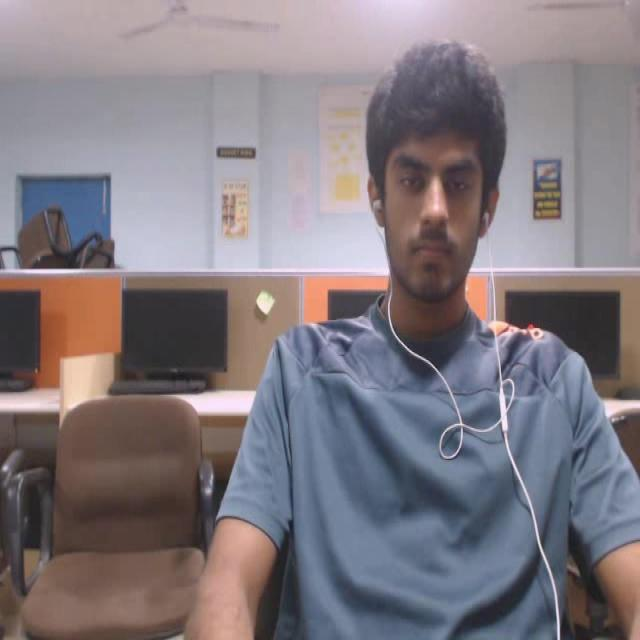Bored: (342, 37, 520, 320)
